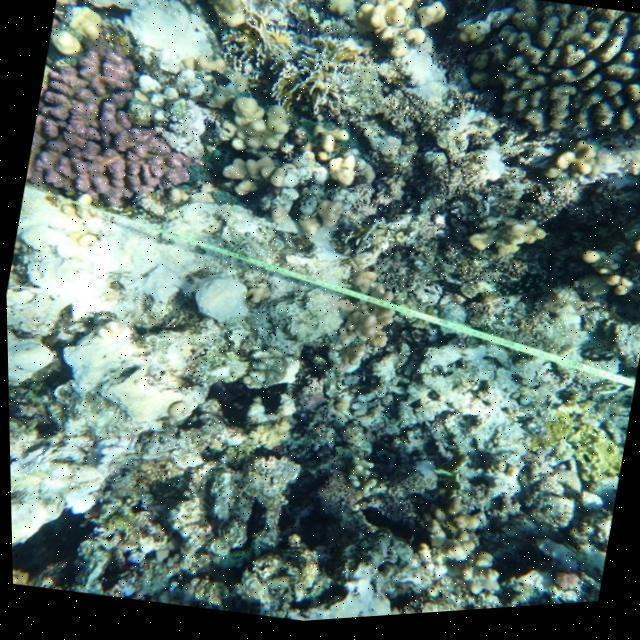Bleached Coral: (119, 0, 243, 92), (172, 90, 234, 172)
Dead Coral: (475, 14, 640, 140)
Healthy Coral: (40, 78, 183, 222)
